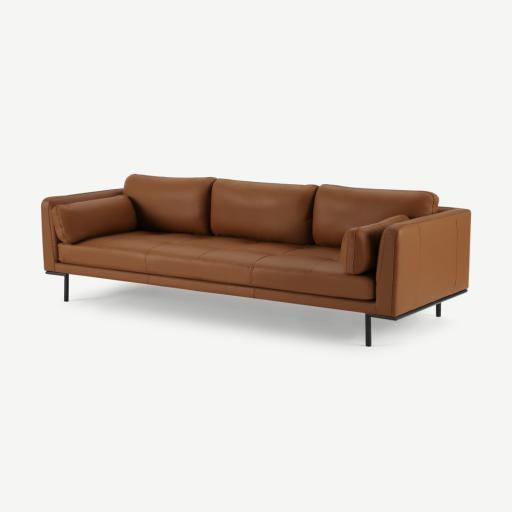back_cushion: (112, 175, 438, 246)
base: (57, 264, 256, 298), (292, 293, 373, 310)
left_arm: (376, 209, 470, 316)
legs: (365, 290, 467, 346), (46, 271, 69, 301)
right_arm: (42, 189, 121, 270)
seat_cushion: (58, 231, 374, 300)
two-seater: (0, 0, 511, 512)
